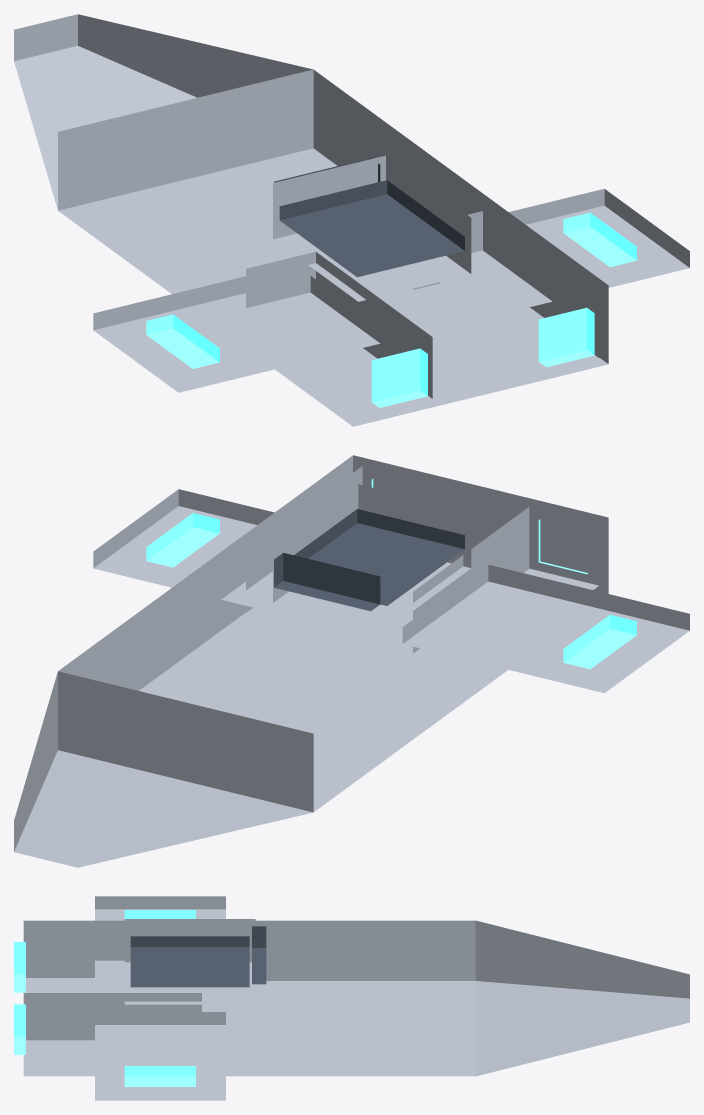
File: ship.glb
3 renders of one model, top to bottom at view 1: azimuth 30°, elevation 25°; view 2: azimuth 150°, elevation 25°; view 3: azimuth 270°, elevation 25°, orthographic. The views are drawn at different scales.
Visible parts, largest first — view 1: hull, dark, accent; view 2: hull, dark, accent; view 3: hull, dark, accent.
Part boxes in pixels (bbox=[...]): hull: bbox=[14, 14, 689, 426]; dark: bbox=[274, 158, 464, 277]; accent: bbox=[146, 212, 636, 407]; hull: bbox=[14, 455, 689, 867]; dark: bbox=[274, 509, 464, 611]; accent: bbox=[146, 479, 636, 669]; hull: bbox=[23, 896, 689, 1100]; dark: bbox=[130, 926, 266, 987]; accent: bbox=[14, 910, 195, 1086].
Bounding box in the file's own units: 3.8 × 0.94 × 5.68.
